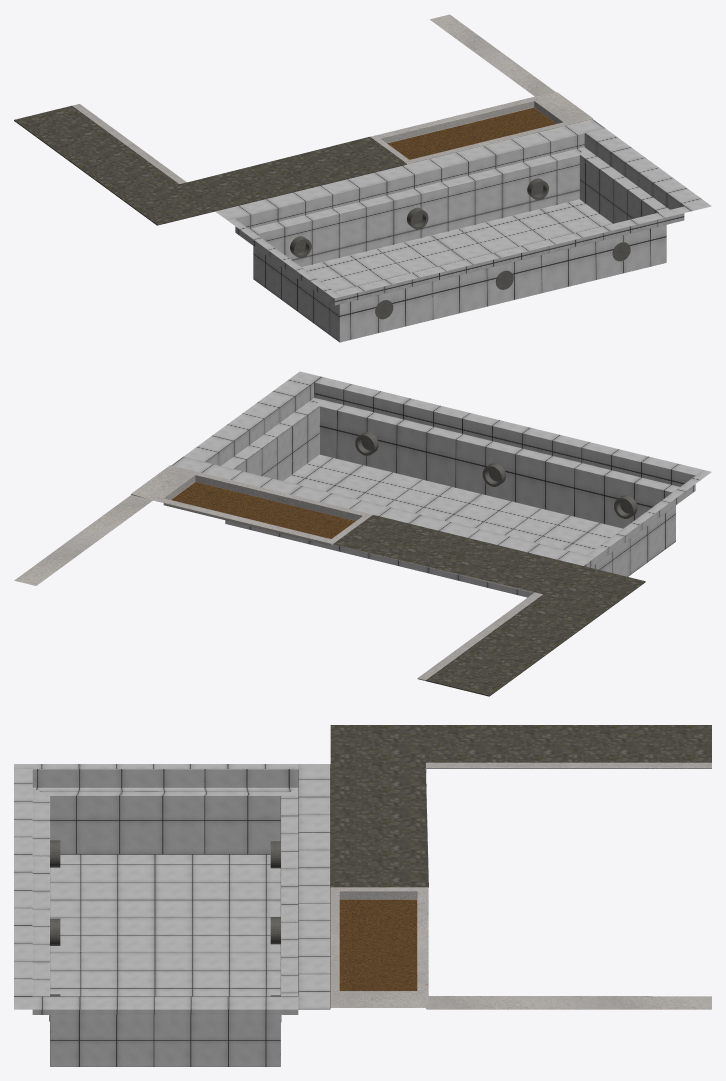
Rendered from pool.gltf.
3 views of the same model, one above another, from view 1: azimuth 30°, elevation 25°; view 2: azimuth 150°, elevation 25°; view 3: azimuth 270°, elevation 25° (orthographic). The views are drawn at different scales.
Visible parts, largest first — view 1: walk_pool; view 2: walk_pool; view 3: walk_pool.
Boxes of the visible parts, x1=… form: walk_pool: x1=14, y1=14, x2=711, y2=342; walk_pool: x1=14, y1=371, x2=711, y2=696; walk_pool: x1=14, y1=725, x2=711, y2=1066.
Size of the model in its own units: 10.51 by 1.38 by 10.95.
Materials: 5 (5 with a texture image).
